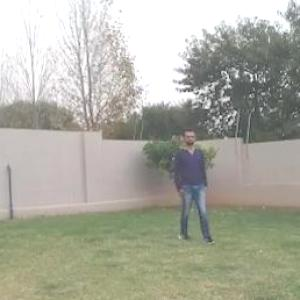follow: (179, 128, 207, 236)
